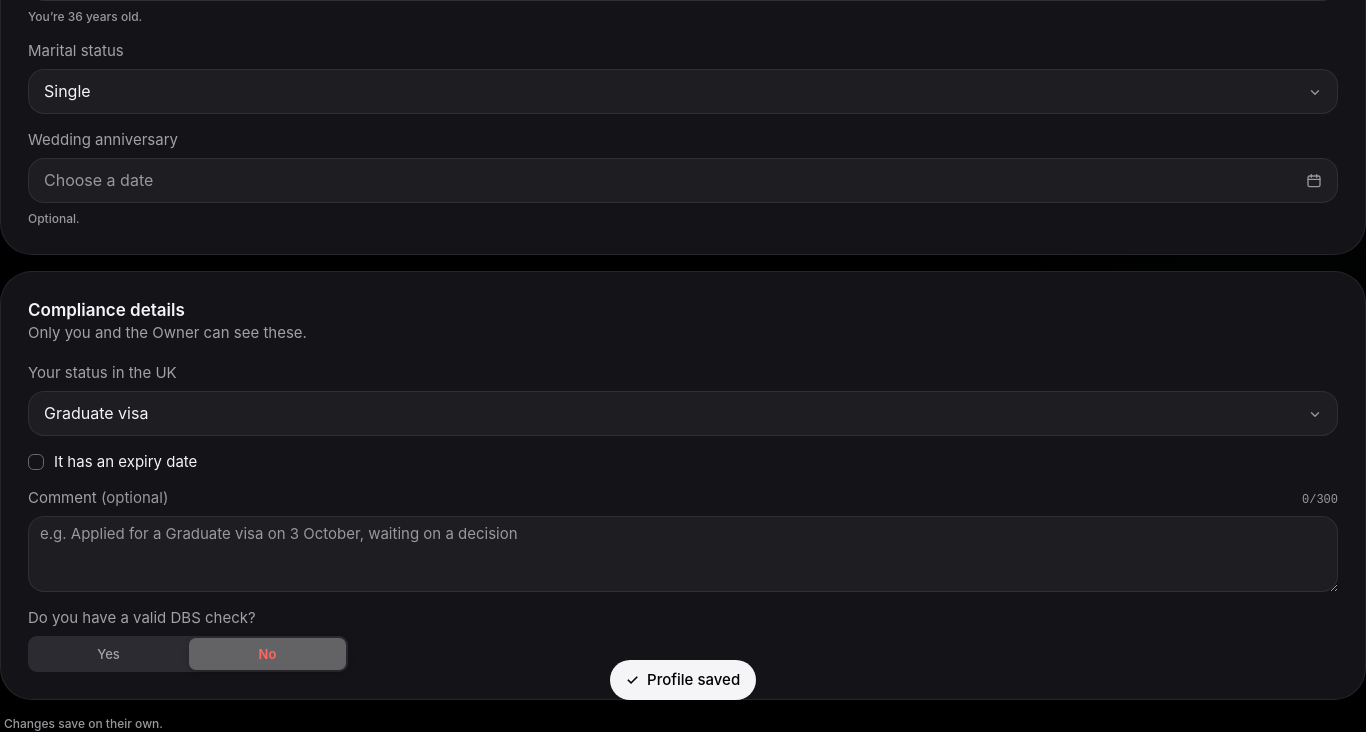
Scenario: the profile saves itself › saves the DBS answer as soon as it is given
The image size is (1366, 732).
(page scrolled)
Step 1. Click the button "Yes" → (108, 654), box [30, 638, 187, 670]
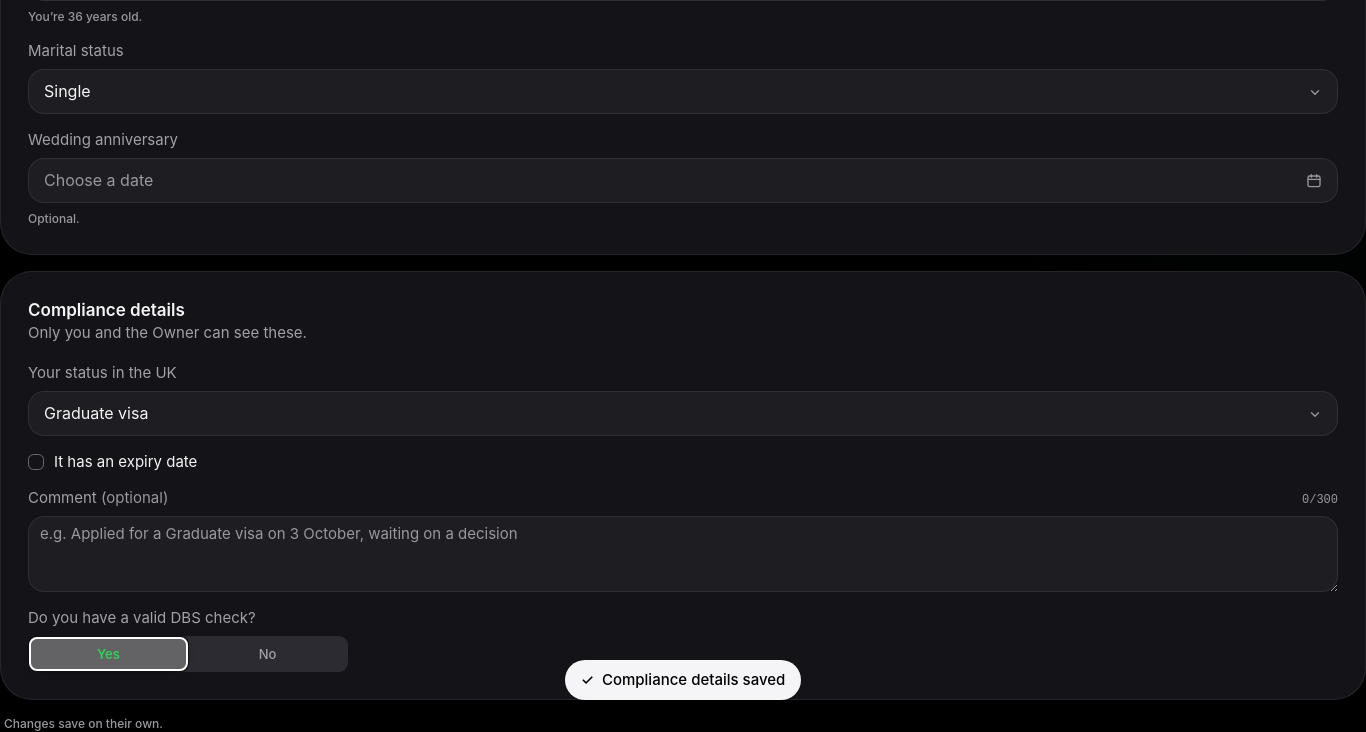
Expected: the text "Compliance details saved" is shown, [602, 670, 785, 689]
